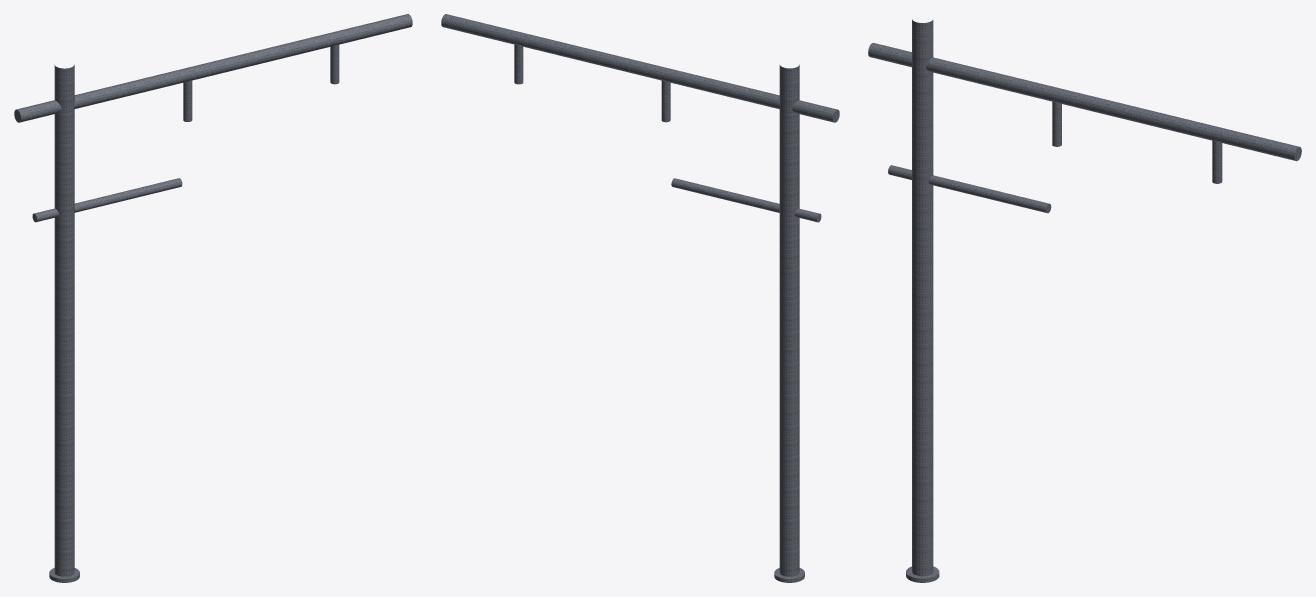
File: road_sign.gltf
3 views of the same model, side by side, from view 1: azimuth 30°, elevation 25°; view 2: azimuth 150°, elevation 25°; view 3: azimuth 330°, elevation 25° (orthographic). The views are drawn at different scales.
Visible parts, largest first — view 1: Mesh2 Group1 Model, Mesh3 Group1 Model, Mesh1 Group1 Model; view 2: Mesh2 Group1 Model, Mesh3 Group1 Model, Mesh1 Group1 Model; view 3: Mesh2 Group1 Model, Mesh3 Group1 Model, Mesh1 Group1 Model.
Boxes of the visible parts, x1,y1,x2,y2 form: Mesh2 Group1 Model: (49,64,79,582); Mesh3 Group1 Model: (14,14,412,122); Mesh1 Group1 Model: (32,178,182,222); Mesh2 Group1 Model: (774,64,804,582); Mesh3 Group1 Model: (441,14,839,122); Mesh1 Group1 Model: (671,178,821,222); Mesh2 Group1 Model: (906,19,939,582); Mesh3 Group1 Model: (868,43,1301,161); Mesh1 Group1 Model: (888,165,1051,213).
Bounding box in the file's own units: 8 × 9.99 × 0.5438.
3 materials, 2 textured.
